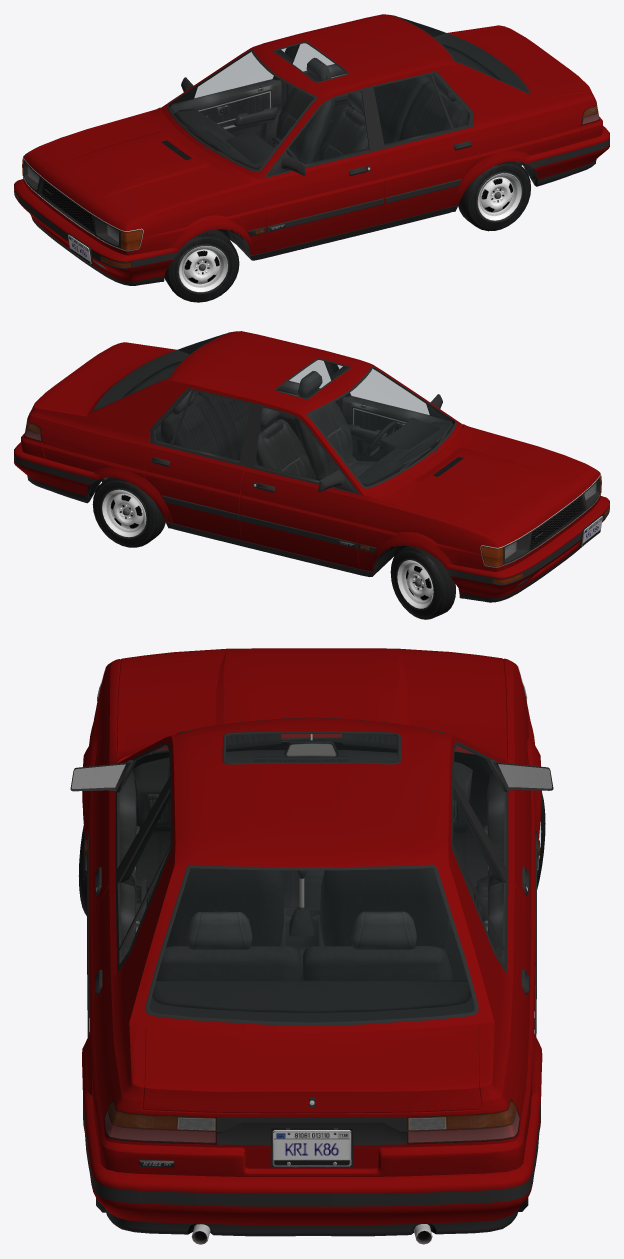
The picture shows the model from 3 angles, top to bottom: view 1: azimuth 30°, elevation 25°; view 2: azimuth 150°, elevation 25°; view 3: azimuth 270°, elevation 25°; orthographic projection. The views are drawn at different scales.
Parts seen in each view (by area): view 1: Body_Bodycolor_0, Hood_Bodycolor_0, Seats_GEN4DR_INTERIOR_0, Windshield_UCB_GLASS_CLEAN_0, Door_FL_Bodycolor_0, Door_RL_Bodycolor_0, Fenders_front_Bodycolor_0, bottom_UCB_BOTTOM_0, Glass_door_RL_UCB_GLASS_CLEAN_0, Doorcard_FR_GEN4DR_INTERIOR_0, Wheel_FL_RIMSTOCK_02_1_0, Trunk_door_Bodycolor_0 (+17 smaller); view 2: Body_Bodycolor_0, Hood_Bodycolor_0, Seats_GEN4DR_INTERIOR_0, Windshield_UCB_GLASS_CLEAN_0, Door_FR_Bodycolor_0, Door_RR_Bodycolor_0, Fenders_front_Bodycolor_0, bottom_UCB_BOTTOM_0, Glass_door_RR_UCB_GLASS_CLEAN_0, Trunk_door_Bodycolor_0, Glass_door_FR_UCB_GLASS_CLEAN_0, Wheel_RR_RIMSTOCK_02_1_0 (+16 smaller); view 3: Body_Bodycolor_0, Rear_window_UCB_GLASS_CLEAN_0, Hood_Bodycolor_0, Trunk_door_Bodycolor_0, Seats_GEN4DR_INTERIOR_0, Interior_GEN4DR_INTERIOR_0, Bumper_rear_Bodycolor_0, bumper_rear_inner_UCB_BOTTOM_0, bottom_UCB_BOTTOM_0, Taillights_UCB_BOTTOM_0, Fenders_front_Bodycolor_0, Roof_window_UCB_GLASS_CLEAN_0 (+23 smaller).
Boxes of the visible parts, box(x1,y1,x2,y2) form: Body_Bodycolor_0: box(25, 14, 602, 251); Hood_Bodycolor_0: box(25, 107, 258, 229); Seats_GEN4DR_INTERIOR_0: box(272, 57, 468, 163); Windshield_UCB_GLASS_CLEAN_0: box(169, 51, 313, 169); Door_FL_Bodycolor_0: box(263, 85, 383, 252); Door_RL_Bodycolor_0: box(367, 68, 480, 223); Fenders_front_Bodycolor_0: box(23, 110, 266, 255); bottom_UCB_BOTTOM_0: box(22, 15, 534, 260); Glass_door_RL_UCB_GLASS_CLEAN_0: box(374, 75, 468, 145); Doorcard_FR_GEN4DR_INTERIOR_0: box(170, 46, 292, 146); Wheel_FL_RIMSTOCK_02_1_0: box(164, 229, 239, 302); Trunk_door_Bodycolor_0: box(454, 27, 589, 95); Body_Bodycolor_0: box(21, 331, 598, 567); Hood_Bodycolor_0: box(365, 424, 599, 545); Seats_GEN4DR_INTERIOR_0: box(160, 371, 376, 480); Windshield_UCB_GLASS_CLEAN_0: box(310, 368, 454, 485); Door_FR_Bodycolor_0: box(240, 401, 360, 569); Door_RR_Bodycolor_0: box(143, 384, 256, 540); Fenders_front_Bodycolor_0: box(357, 427, 600, 571); bottom_UCB_BOTTOM_0: box(89, 332, 601, 576); Glass_door_RR_UCB_GLASS_CLEAN_0: box(156, 391, 249, 461); Trunk_door_Bodycolor_0: box(34, 344, 170, 412); Glass_door_FR_UCB_GLASS_CLEAN_0: box(255, 408, 336, 481); Wheel_RR_RIMSTOCK_02_1_0: box(92, 477, 165, 547); Body_Bodycolor_0: box(82, 718, 542, 1176); Rear_window_UCB_GLASS_CLEAN_0: box(150, 868, 473, 1021); Hood_Bodycolor_0: box(116, 648, 507, 763); Trunk_door_Bodycolor_0: box(142, 1023, 481, 1113); Seats_GEN4DR_INTERIOR_0: box(156, 867, 452, 980); Interior_GEN4DR_INTERIOR_0: box(129, 734, 494, 1022); Bumper_rear_Bodycolor_0: box(82, 1082, 541, 1224); bumper_rear_inner_UCB_BOTTOM_0: box(83, 1100, 540, 1236); bottom_UCB_BOTTOM_0: box(88, 666, 534, 1145); Taillights_UCB_BOTTOM_0: box(104, 1100, 519, 1144); Fenders_front_Bodycolor_0: box(82, 658, 541, 839); Roof_window_UCB_GLASS_CLEAN_0: box(226, 733, 397, 762).
Bounding box in the file's own units: 170 × 51.86 × 69.31.
9 materials, 8 textured.
